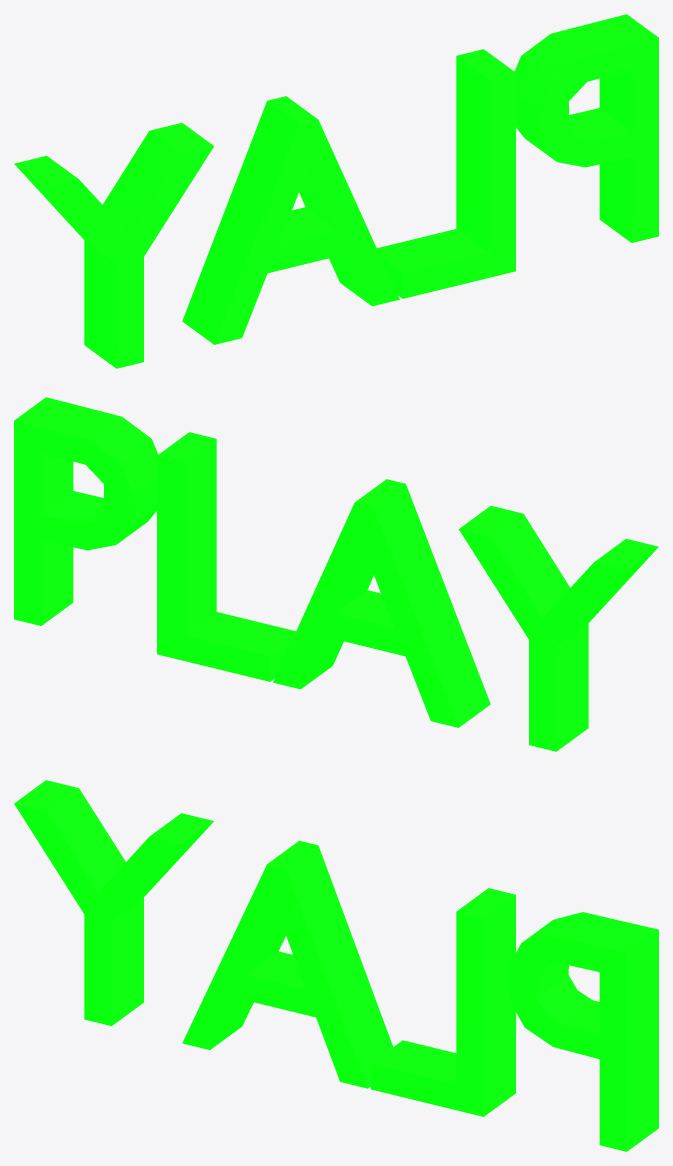
File: text-join.glb
3 renders of one model, top to bottom at view 1: azimuth 30°, elevation 25°; view 2: azimuth 150°, elevation 25°; view 3: azimuth 330°, elevation 25°, orthographic.
Parts seen in each view (by area): view 1: Text; view 2: Text; view 3: Text.
Part boxes in pixels (bbox=[...]): Text: bbox=[14, 14, 658, 368]; Text: bbox=[14, 397, 658, 751]; Text: bbox=[14, 780, 658, 1151].
Size of what is drawn, in the model's own units: 2.2 by 0.686 by 0.2.
